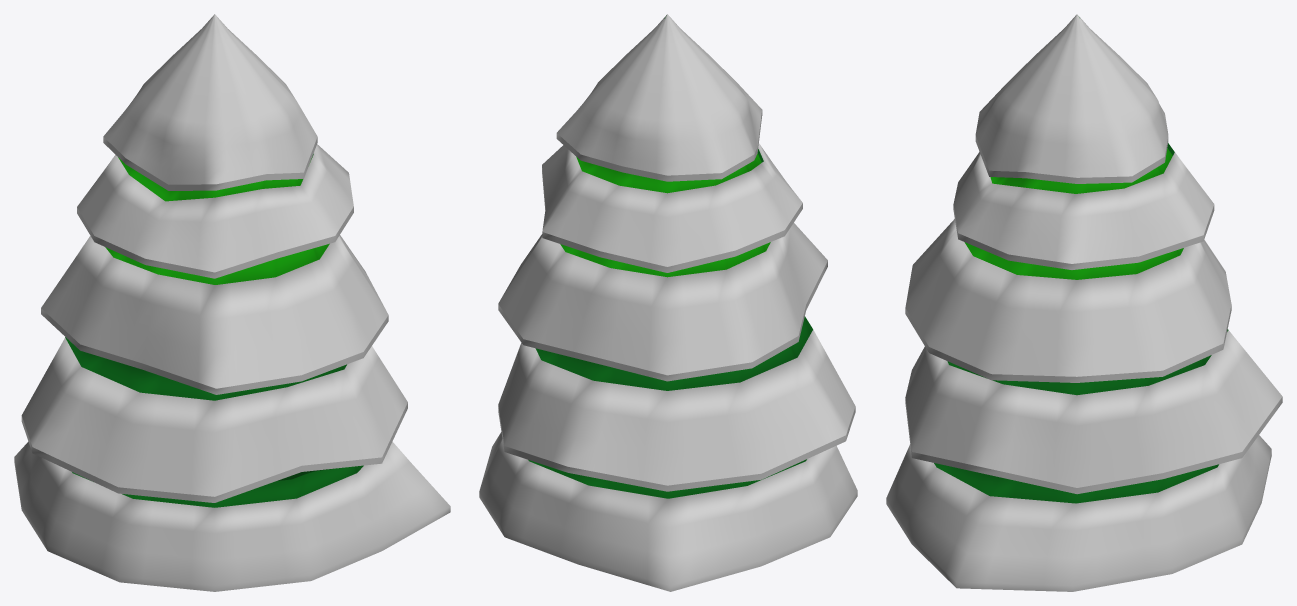
Rendered from Tree_2.fbx.
The picture shows the model from 3 angles, left to right: view 1: azimuth 30°, elevation 25°; view 2: azimuth 150°, elevation 25°; view 3: azimuth 270°, elevation 25°; orthographic projection. The views are drawn at different scales.
Visible parts, largest first — view 1: Tree; view 2: Tree; view 3: Tree.
Boxes of the visible parts, <box> form: Tree: <box>14,14,450,591</box>; Tree: <box>479,14,857,591</box>; Tree: <box>886,14,1282,591</box>.
Size of the model in its own units: 611 by 794 by 582.
